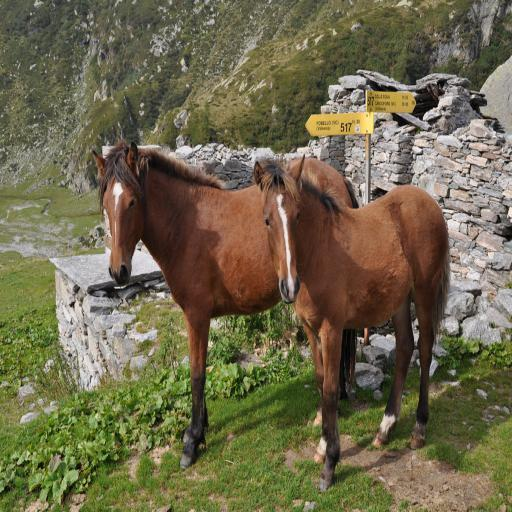horse: (90, 136, 362, 470), (253, 158, 453, 493)
